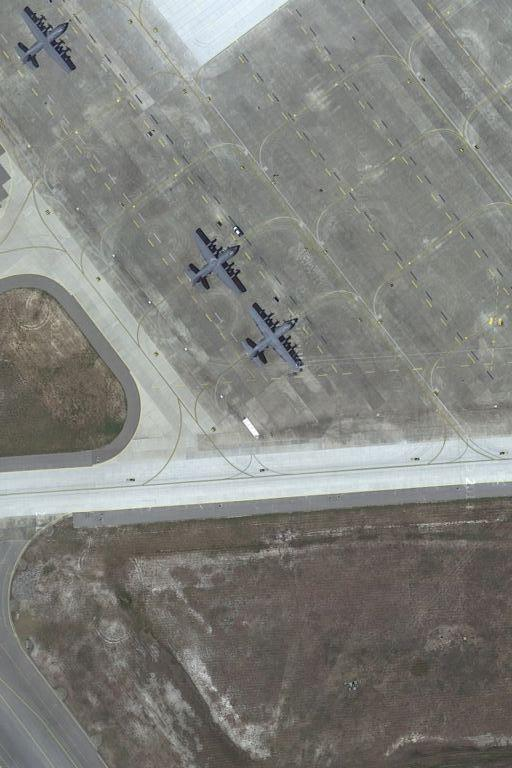C-130: (12, 6, 77, 83), (182, 223, 247, 300), (238, 302, 305, 373)
